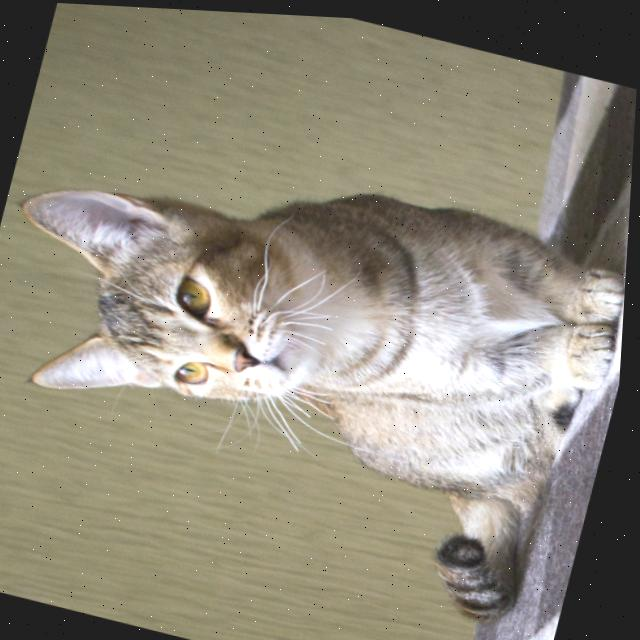Munchkin: (0, 96, 636, 637)
